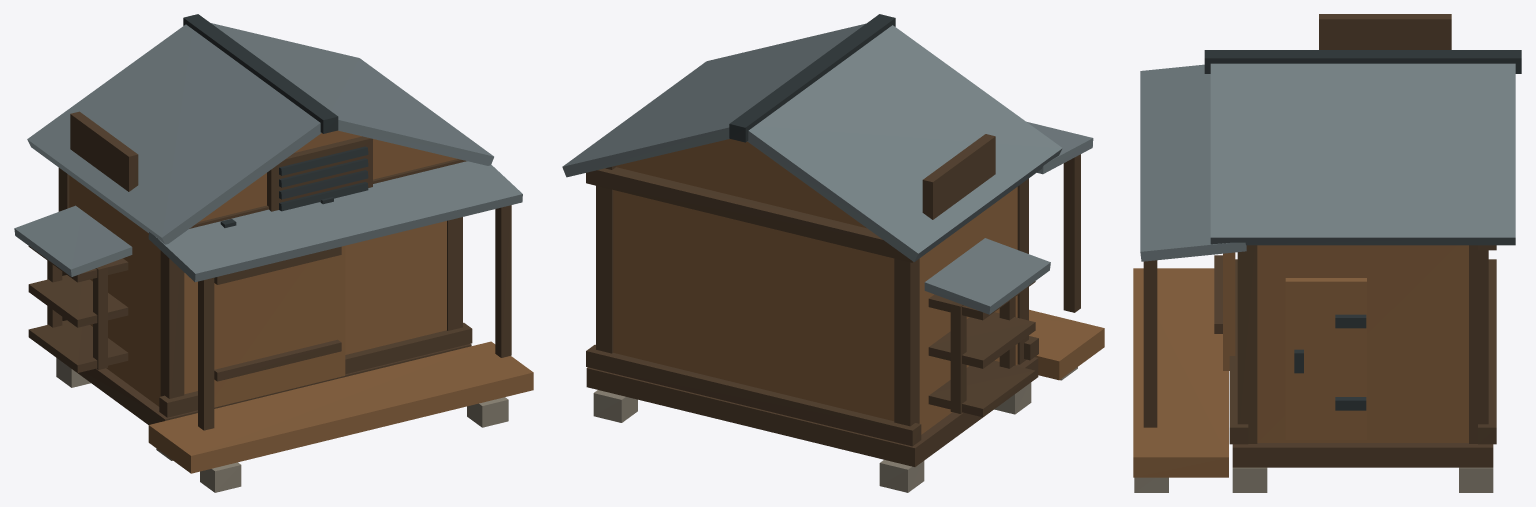
Rendered from Produce-Storehouse.glb.
3 views of the same model, side by side, from view 1: azimuth 30°, elevation 25°; view 2: azimuth 150°, elevation 25°; view 3: azimuth 270°, elevation 25° (orthographic). The views are drawn at different scales.
Parts seen in each view (by area): view 1: produce-storehouse-static-produce-storehouse-galvanized-roof, produce-storehouse-static-produce-storehouse-warm-timber, produce-storehouse-static-produce-storehouse-dark-frame, produce-storehouse-static-produce-storehouse-dark-iron, produce-storehouse-static-produce-storehouse-stone; view 2: produce-storehouse-static-produce-storehouse-warm-timber, produce-storehouse-static-produce-storehouse-galvanized-roof, produce-storehouse-static-produce-storehouse-dark-frame, produce-storehouse-static-produce-storehouse-dark-iron, produce-storehouse-static-produce-storehouse-stone; view 3: produce-storehouse-static-produce-storehouse-galvanized-roof, produce-storehouse-static-produce-storehouse-warm-timber, produce-storehouse-static-produce-storehouse-dark-frame, produce-storehouse-static-produce-storehouse-dark-iron, produce-storehouse-static-produce-storehouse-stone.
Boxes of the visible parts, left/top/right/bottom form: produce-storehouse-static-produce-storehouse-galvanized-roof: left=14, top=23, right=522, bottom=282; produce-storehouse-static-produce-storehouse-warm-timber: left=69, top=130, right=533, bottom=473; produce-storehouse-static-produce-storehouse-dark-frame: left=28, top=111, right=511, bottom=430; produce-storehouse-static-produce-storehouse-dark-iron: left=183, top=14, right=368, bottom=227; produce-storehouse-static-produce-storehouse-stone: left=56, top=358, right=508, bottom=492; produce-storehouse-static-produce-storehouse-warm-timber: left=613, top=139, right=1104, bottom=434; produce-storehouse-static-produce-storehouse-galvanized-roof: left=562, top=23, right=1093, bottom=314; produce-storehouse-static-produce-storehouse-dark-frame: left=586, top=134, right=1080, bottom=466; produce-storehouse-static-produce-storehouse-dark-iron: left=729, top=14, right=895, bottom=142; produce-storehouse-static-produce-storehouse-stone: left=593, top=367, right=1077, bottom=492; produce-storehouse-static-produce-storehouse-galvanized-roof: left=1140, top=63, right=1515, bottom=261; produce-storehouse-static-produce-storehouse-warm-timber: left=1133, top=245, right=1468, bottom=477; produce-storehouse-static-produce-storehouse-dark-frame: left=1143, top=14, right=1496, bottom=467; produce-storehouse-static-produce-storehouse-dark-iron: left=1204, top=50, right=1521, bottom=410; produce-storehouse-static-produce-storehouse-stone: left=1134, top=467, right=1493, bottom=492.
Bounding box in the file's own units: 4.01 × 3.21 × 3.16.
